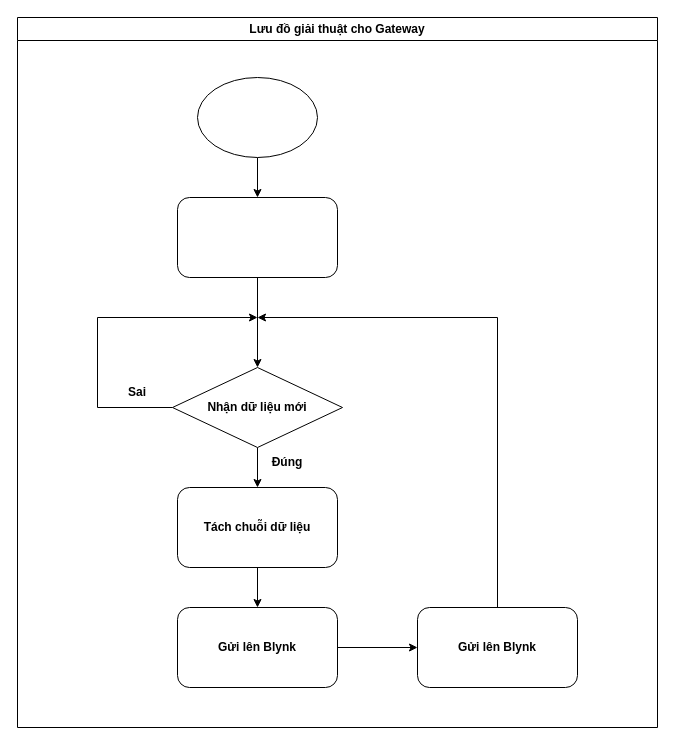
This 675x745 diagram has some shape labels left out. Here are the shapes that lost their labels. From the top down, the centre of each, then its label:
[257,117]: Bắt đầu và khởi tạo
[257,237]: Nhận dữ liệu GPS
